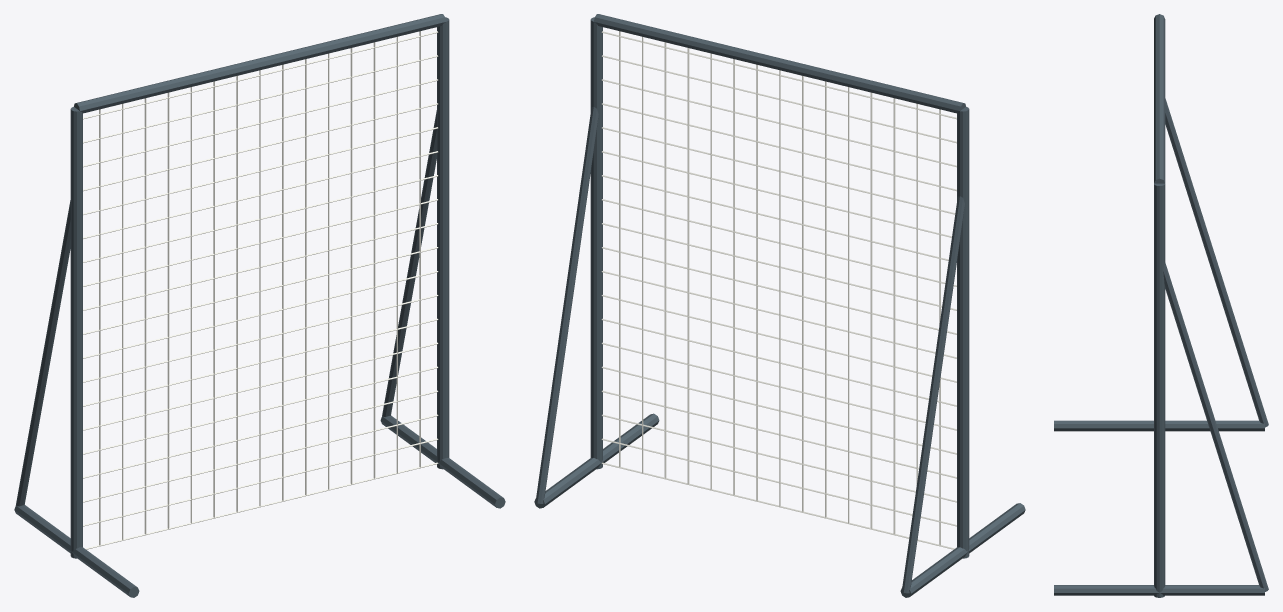
Rendered from american-football-stadium-kit-kicking-net-467ed933__22335.glb.
The picture shows the model from 3 angles, left to right: view 1: azimuth 30°, elevation 25°; view 2: azimuth 150°, elevation 25°; view 3: azimuth 270°, elevation 25°; orthographic projection. The views are drawn at different scales.
Parts seen in each view (by area): view 1: kicking-net; view 2: kicking-net; view 3: kicking-net.
Part boxes in pixels (<box>): kicking-net: <box>14,14,505,597</box>; kicking-net: <box>534,14,1025,597</box>; kicking-net: <box>1054,14,1268,597</box>.
Size of the model in its own units: 2.47 by 2.84 by 1.32.
